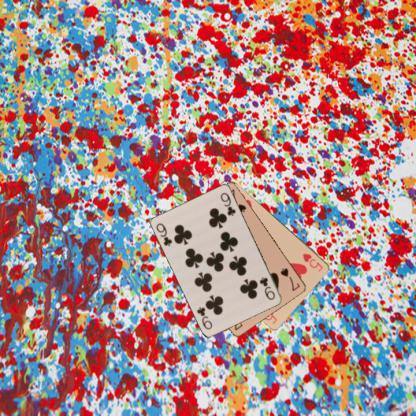5h: (300, 250, 324, 272)
7s: (278, 266, 302, 292)
9c: (257, 274, 277, 301), (154, 221, 173, 247)
